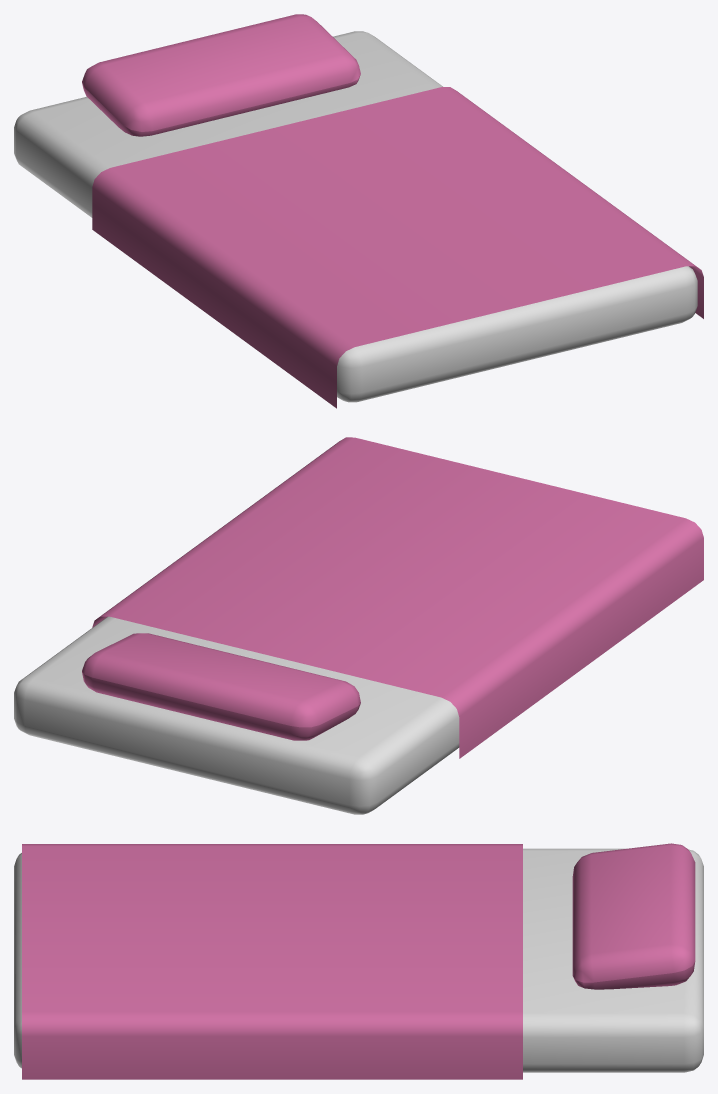
The model's file is pink matress on floor.fbx.
The picture shows the model from 3 angles, top to bottom: view 1: azimuth 30°, elevation 25°; view 2: azimuth 150°, elevation 25°; view 3: azimuth 270°, elevation 25°; orthographic projection. The views are drawn at different scales.
Visible parts, largest first — view 1: Cube.009; view 2: Cube.009; view 3: Cube.009.
Part boxes in pixels (x1=…): Cube.009: x1=14, y1=14, x2=703, y2=408; Cube.009: x1=14, y1=437, x2=703, y2=814; Cube.009: x1=14, y1=843, x2=703, y2=1079.
Bounding box in the file's own units: 118 × 28.42 × 188.
